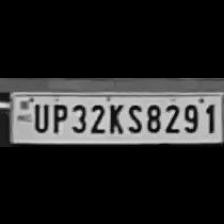1: (201, 100, 219, 132)
2: (86, 99, 106, 133), (162, 99, 180, 133)
3: (68, 100, 86, 132)
8: (144, 100, 162, 132)
9: (179, 99, 199, 133)
K: (106, 99, 124, 134)
P: (48, 100, 68, 132)
S: (124, 99, 142, 133)
U: (29, 100, 49, 132)
